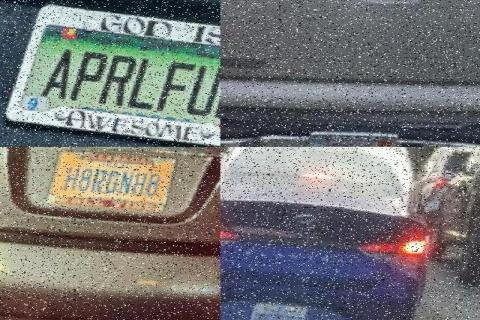LicensePlate: (0, 3, 219, 146), (43, 149, 177, 213), (305, 130, 398, 146), (249, 303, 308, 319)
